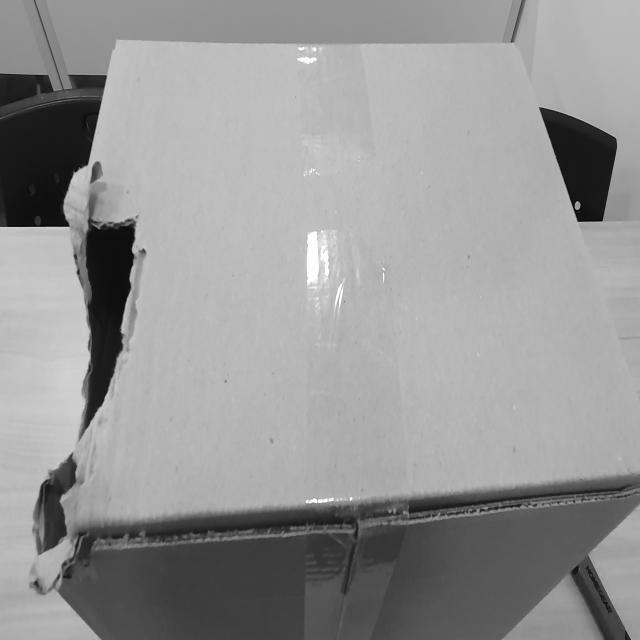hole: (31, 187, 149, 585)
